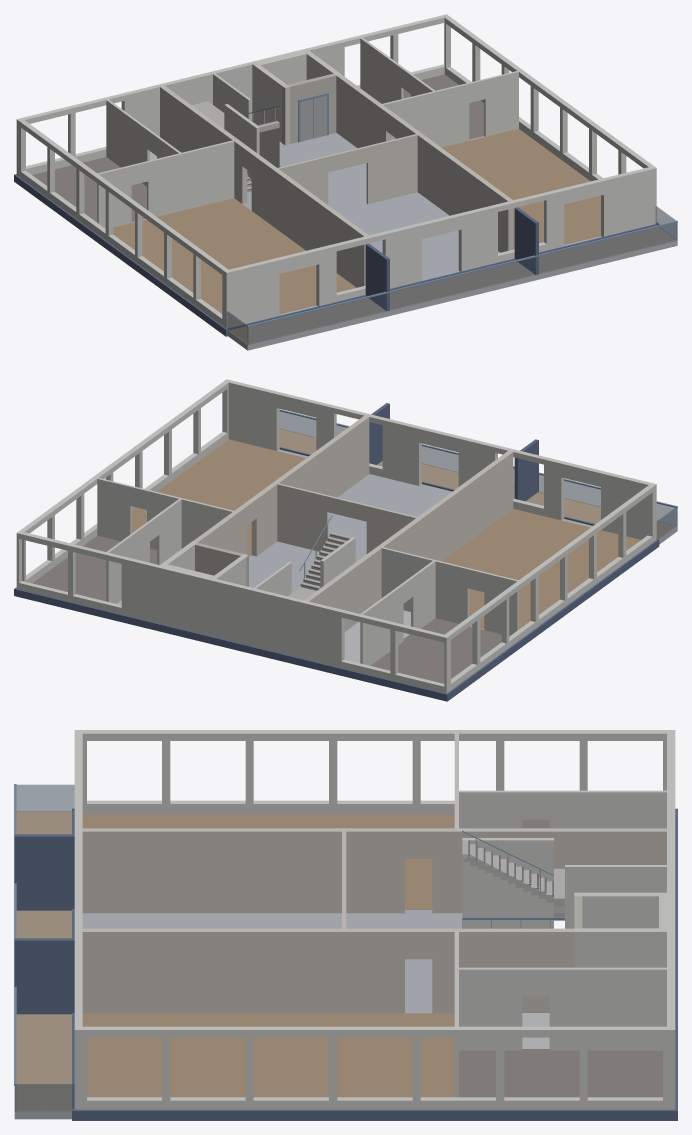
Rendered from office-floor.zfix-v6.lod0.glb.
3 views of the same model, one above another, from view 1: azimuth 30°, elevation 25°; view 2: azimuth 150°, elevation 25°; view 3: azimuth 270°, elevation 25° (orthographic). The views are drawn at different scales.
Parts seen in each view (by area): view 1: office-floor; view 2: office-floor; view 3: office-floor.
Boxes of the visible parts, x1,y1,x2,y2 form: office-floor: (14, 14, 677, 350); office-floor: (14, 379, 677, 701); office-floor: (14, 730, 677, 1120).
Size of the model in its own units: 26.2 by 4.89 by 24.32.
